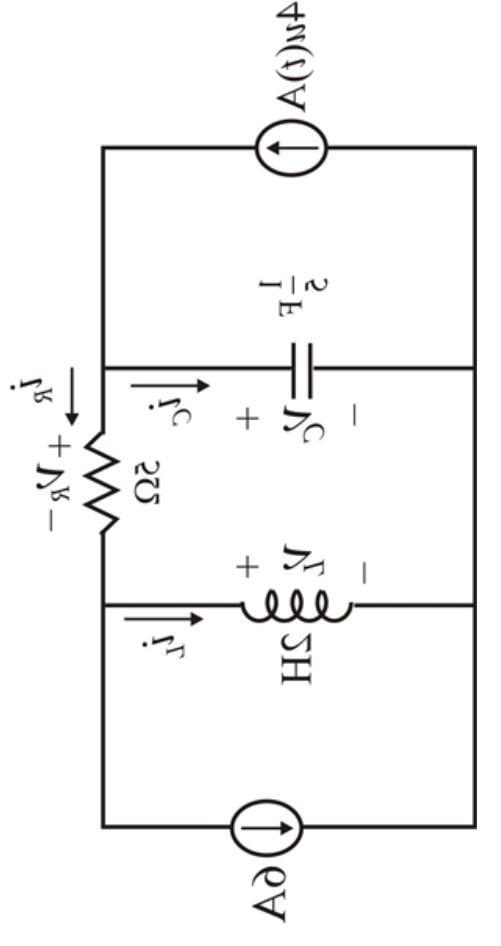inductor: (221, 563, 367, 642)
